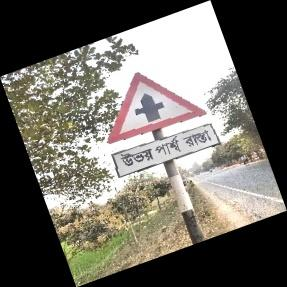Crossroad: (106, 71, 219, 183)
